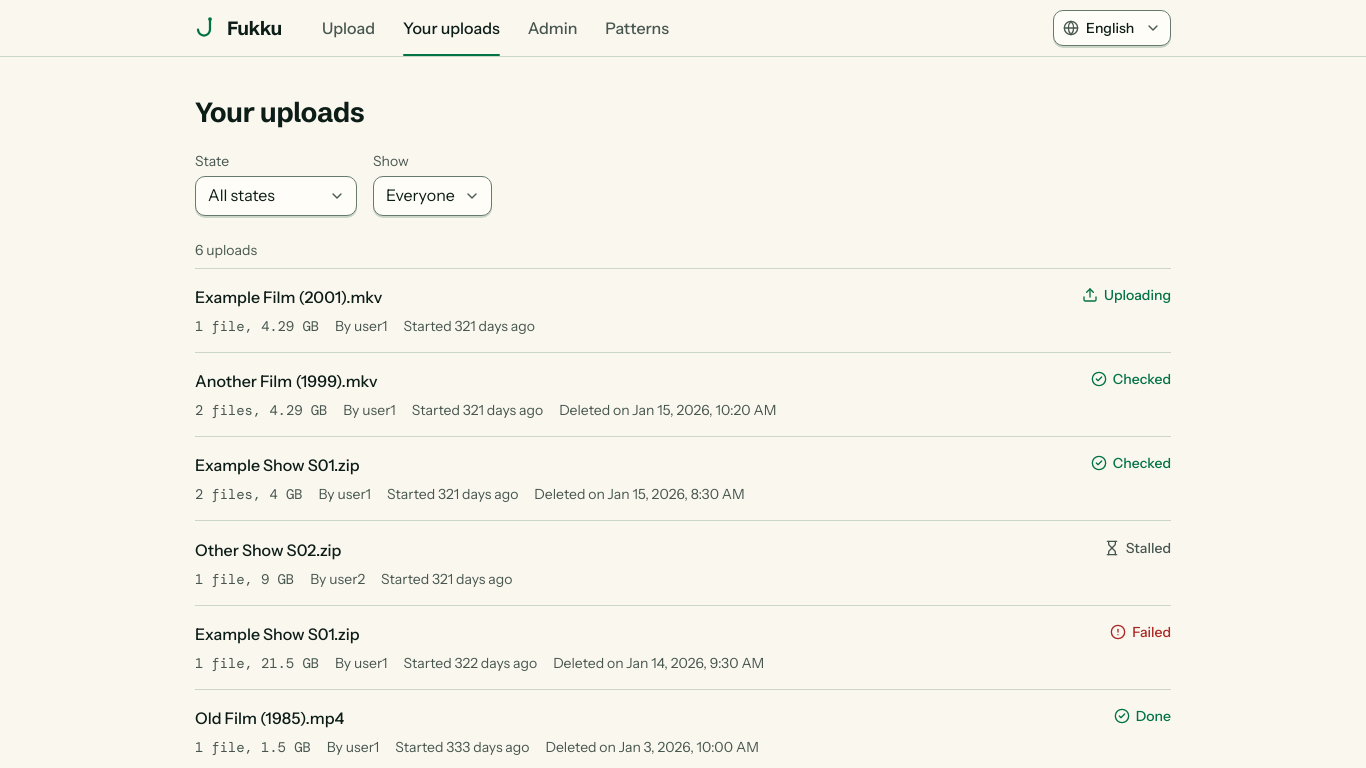
Test case: job list › an admin sees everyone's jobs with their owners and can limit the list to their own
Expected: the link "Other Show S02.zip" is shown, [195,540,341,560]
Expected: the text "By user2" is shown, [310,569,365,589]
Select "Mine" in the dropdown labelled "Show" at [432, 196], box [373,176,492,216]
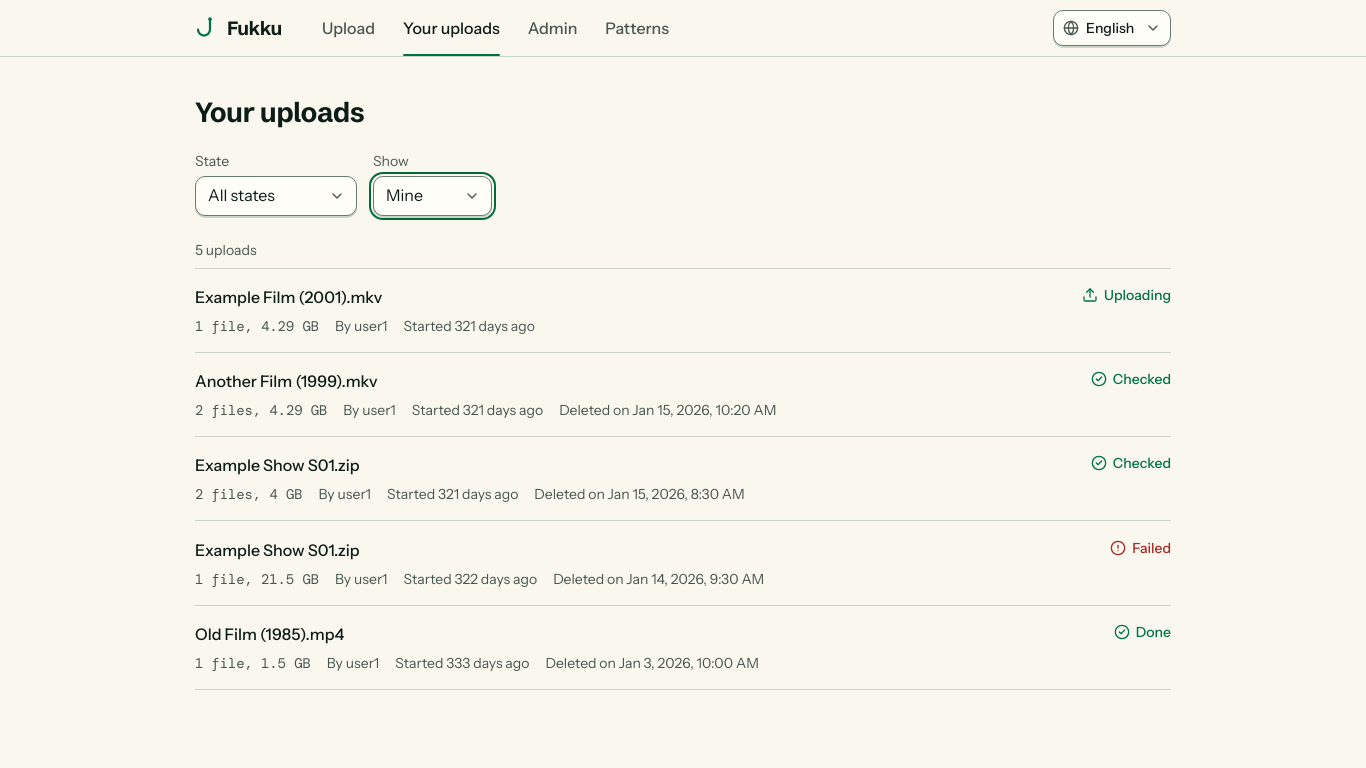
Now the text "5 uploads" is shown, box [195,241,257,259]
Now the link "Other Show S02.zip" is gone
